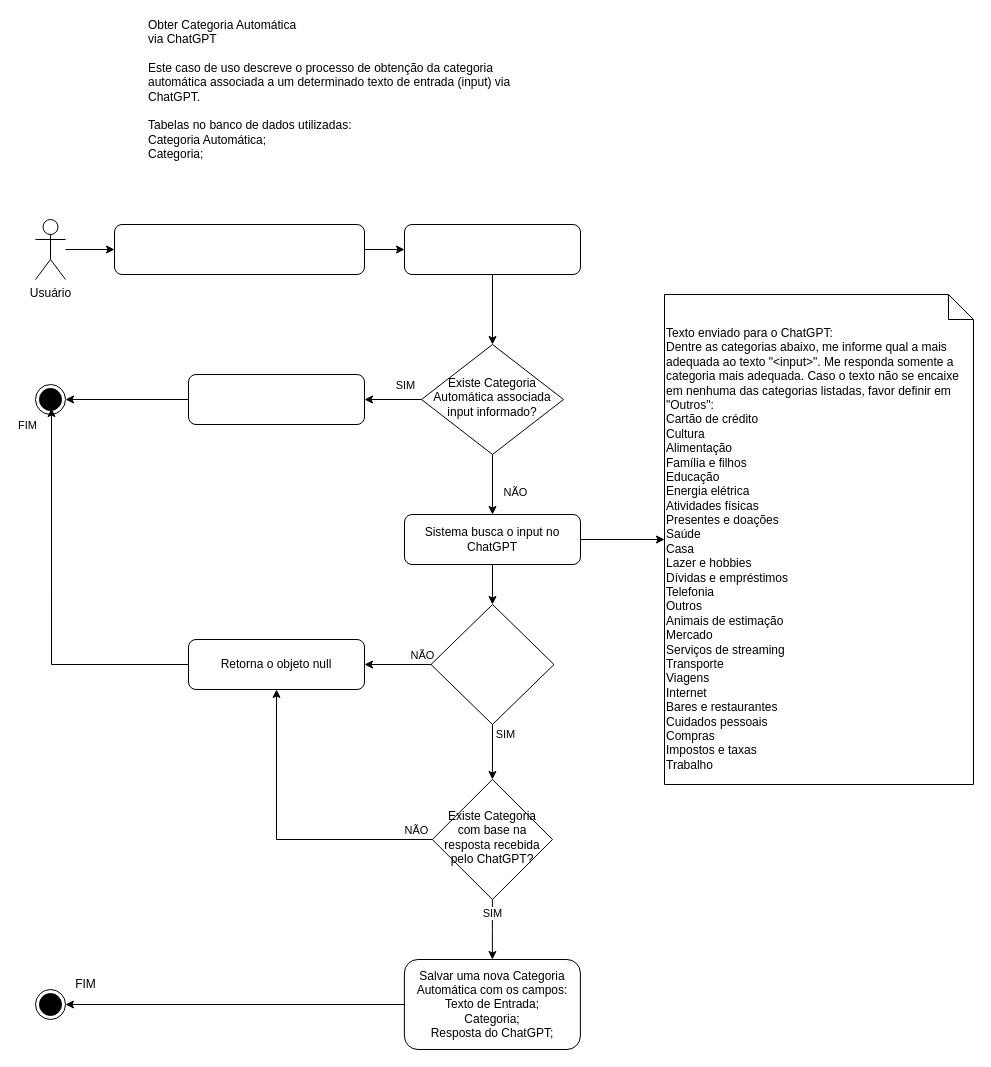
This 991x1067 diagram has some shape labels left out. Here are the shapes that lost their labels. From the top down, the centre of each, then its label:
the point at 239,249: Usuário deseja obter a Categoria Automática para um texto específico (input)
the point at 492,249: Usuário fornece o texto de entrada (input)
the point at 276,399: Retorna Categoria Automática
the point at 492,664: Resposta do ChatGPT é válida (não nula e não vazia)?
